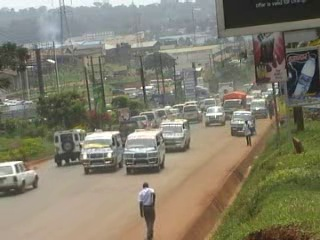Car: (49, 126, 89, 168), (0, 158, 39, 196), (115, 118, 146, 148)
